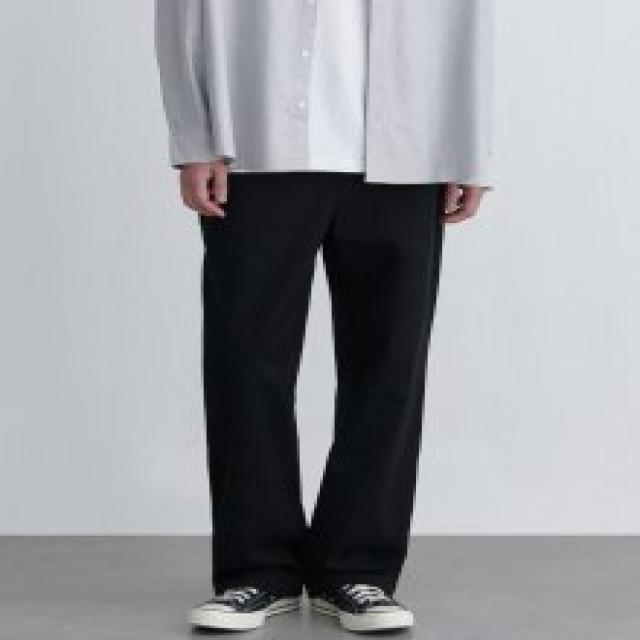long-pants: (202, 170, 450, 594)
